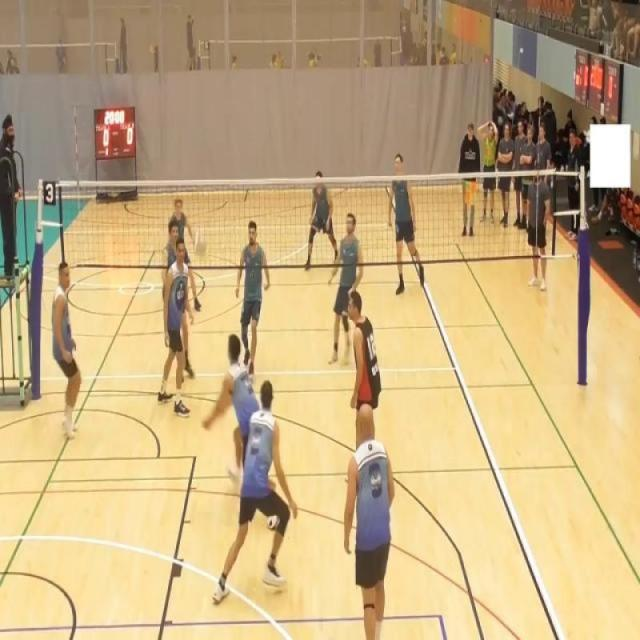volleyball: (192, 228, 208, 256)
